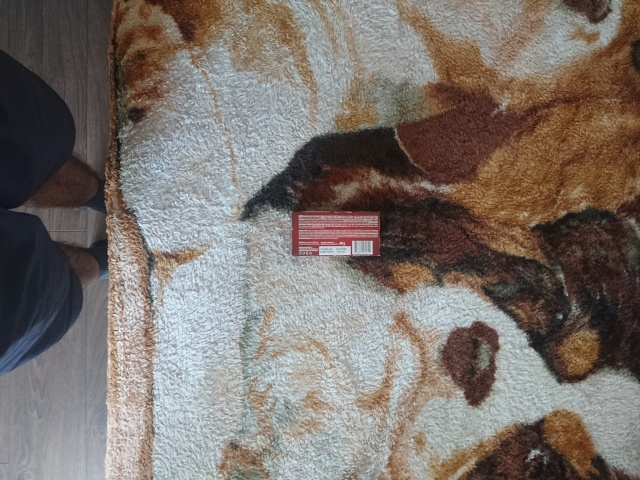Franck Apple Cinnamon Tea 60g: (289, 208, 381, 257)
